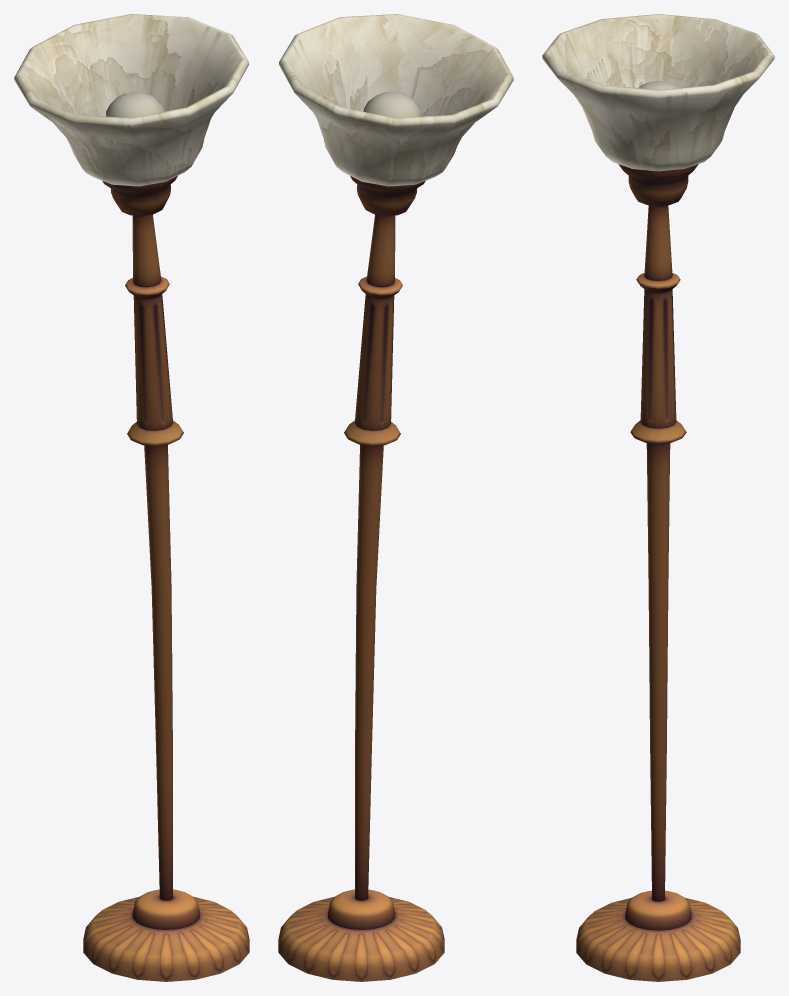
File: OfficeFloorLight01.FBX
The picture shows the model from 3 angles, left to right: view 1: azimuth 30°, elevation 25°; view 2: azimuth 150°, elevation 25°; view 3: azimuth 270°, elevation 25°; orthographic projection.
Visible parts, largest first — view 1: OfficeFloorLight01; view 2: OfficeFloorLight01; view 3: OfficeFloorLight01.
Boxes of the visible parts, x1=… form: OfficeFloorLight01: x1=14, y1=14, x2=249, y2=981; OfficeFloorLight01: x1=278, y1=14, x2=513, y2=981; OfficeFloorLight01: x1=542, y1=14, x2=774, y2=981.
Size of what is drawn, in the model's own units: 0.5582 by 2.28 by 0.5425.
